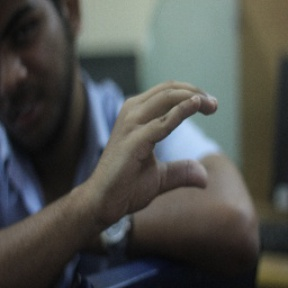C: (117, 79, 226, 199)
